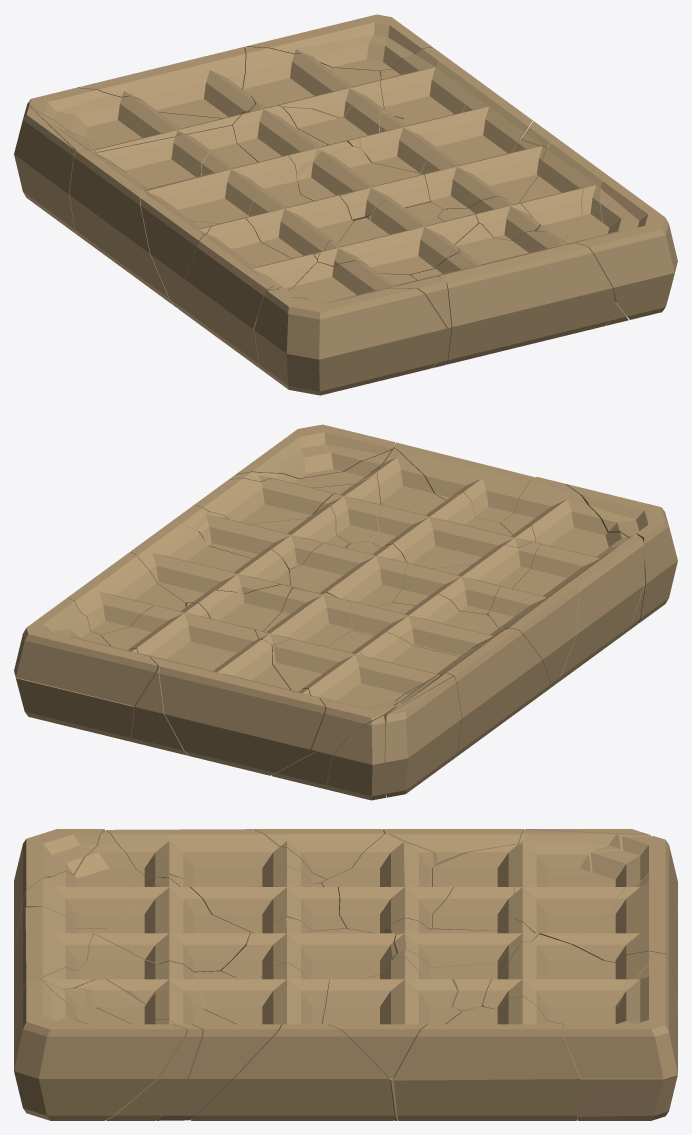
The model's file is Waffle.fbx.
3 renders of one model, top to bottom at view 1: azimuth 30°, elevation 25°; view 2: azimuth 150°, elevation 25°; view 3: azimuth 270°, elevation 25°, orthographic. The views are drawn at different scales.
Parts seen in each view (by area): view 1: Waffle_cell.011, Waffle_cell.034, Waffle_cell.016, Waffle_cell.017, Waffle_cell.003, Waffle_cell.025, Waffle_cell.006, Waffle_cell.030, Waffle_cell.002, Waffle_cell.004, Waffle_cell.033, Waffle_cell.022 (+16 smaller); view 2: Waffle_cell.030, Waffle_cell.016, Waffle_cell.004, Waffle_cell.021, Waffle_cell.002, Waffle_cell.025, Waffle_cell.003, Waffle_cell.006, Waffle_cell.019, Waffle_cell.029, Waffle_cell.033, Waffle_cell.007 (+18 smaller); view 3: Waffle_cell.014, Waffle_cell.017, Waffle_cell.027, Waffle_cell.002, Waffle_cell.003, Waffle_cell.004, Waffle_cell.021, Waffle_cell.016, Waffle_cell.006, Waffle_cell.033, Waffle_cell.023, Waffle_cell.022 (+18 smaller).
Part boxes in pixels (<box>): Waffle_cell.011: <box>254,288,446,395</box>; Waffle_cell.034: <box>410,243,615,364</box>; Waffle_cell.016: <box>178,218,317,360</box>; Waffle_cell.017: <box>577,172,677,319</box>; Waffle_cell.003: <box>360,94,532,174</box>; Waffle_cell.025: <box>69,149,172,304</box>; Waffle_cell.006: <box>317,200,478,274</box>; Waffle_cell.030: <box>77,47,255,118</box>; Waffle_cell.002: <box>242,46,384,118</box>; Waffle_cell.004: <box>29,88,248,152</box>; Waffle_cell.033: <box>143,153,300,223</box>; Waffle_cell.022: <box>297,146,430,220</box>; Waffle_cell.030: <box>159,639,325,775</box>; Waffle_cell.016: <box>488,537,644,683</box>; Waffle_cell.004: <box>271,639,437,756</box>; Waffle_cell.021: <box>14,598,157,706</box>; Waffle_cell.002: <box>101,603,260,755</box>; Waffle_cell.025: <box>440,628,550,756</box>; Waffle_cell.003: <box>131,523,290,607</box>; Waffle_cell.006: <box>370,492,542,568</box>; Waffle_cell.019: <box>385,676,461,797</box>; Waffle_cell.029: <box>500,477,645,632</box>; Waffle_cell.033: <box>351,594,508,656</box>; Waffle_cell.007: <box>392,542,541,615</box>; Waffle_cell.014: <box>393,996,580,1120</box>; Waffle_cell.017: <box>14,980,186,1120</box>; Waffle_cell.027: <box>191,1024,394,1120</box>; Waffle_cell.002: <box>482,934,677,1024</box>; Waffle_cell.003: <box>322,956,461,1078</box>; Waffle_cell.004: <box>513,836,677,933</box>; Waffle_cell.021: <box>562,955,677,1078</box>; Waffle_cell.016: <box>106,829,326,886</box>; Waffle_cell.006: <box>95,877,252,972</box>; Waffle_cell.033: <box>322,834,452,933</box>; Waffle_cell.023: <box>95,985,280,1120</box>; Waffle_cell.022: <box>246,917,396,984</box>.
Size of the model in its own units: 113 by 23.22 by 153.
